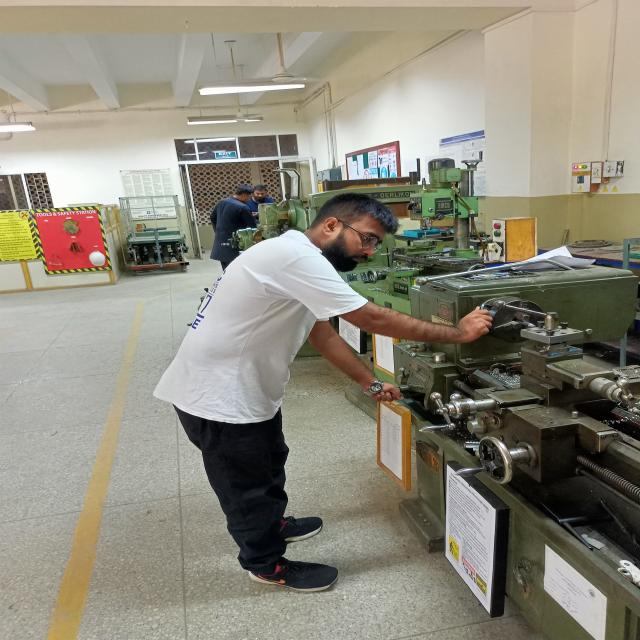dress: (146, 224, 367, 584), (200, 192, 254, 274)
glasses: (351, 224, 384, 254)
